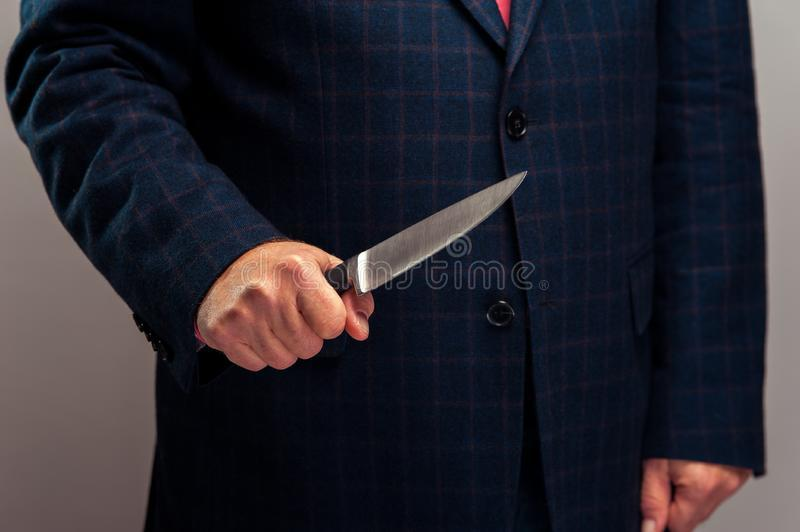weapon: (320, 168, 531, 300)
